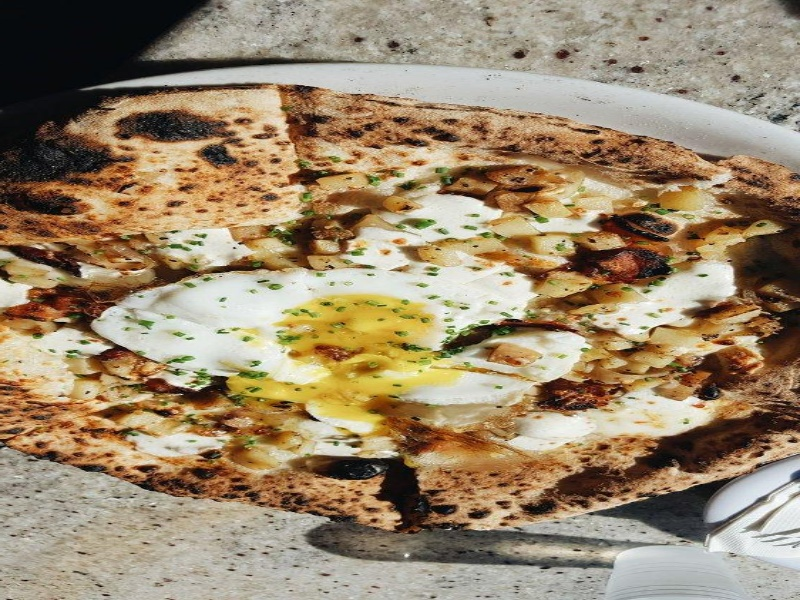oeuf: (278, 287, 455, 420)
